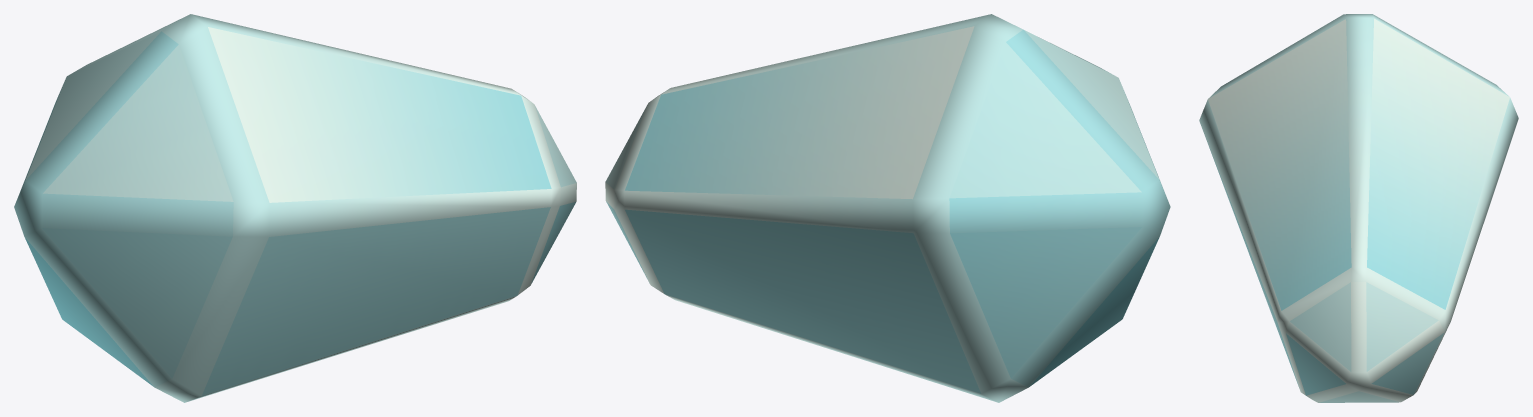
The model's file is christal_diamond_3.fbx.
3 views of the same model, side by side, from view 1: azimuth 30°, elevation 25°; view 2: azimuth 150°, elevation 25°; view 3: azimuth 270°, elevation 25° (orthographic). The views are drawn at different scales.
Visible parts, largest first — view 1: christal_diamond_3; view 2: christal_diamond_3; view 3: christal_diamond_3.
Boxes of the visible parts, left/top/right/bottom form: christal_diamond_3: left=14, top=14, right=576, bottom=402; christal_diamond_3: left=605, top=14, right=1170, bottom=402; christal_diamond_3: left=1199, top=14, right=1518, bottom=402.
Size of the model in its own units: 69.47 by 39.84 by 42.77.
1 material, 1 textured.
